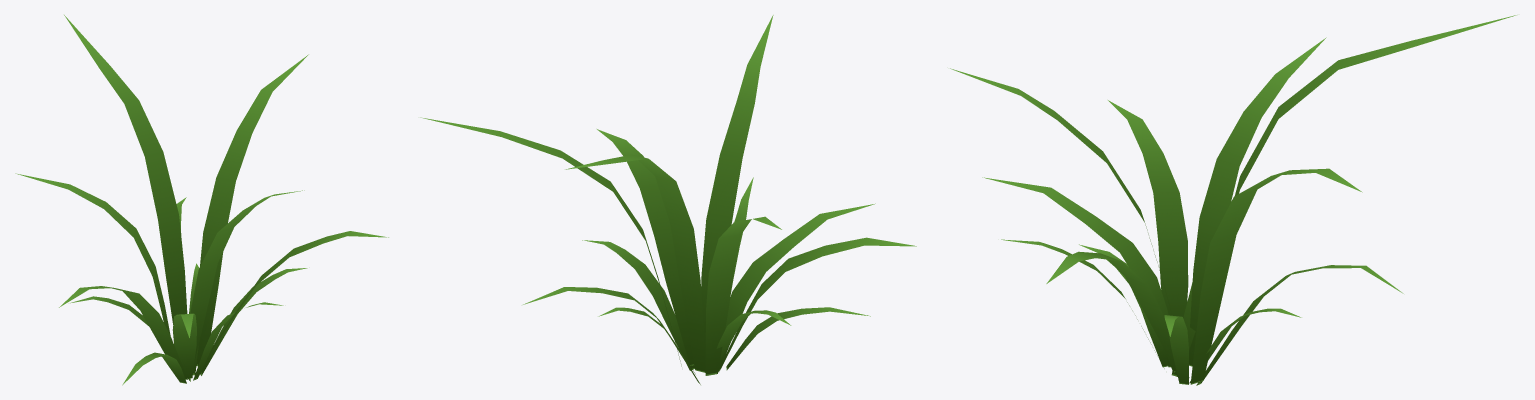
Rendered from grassclump_1.fbx.
3 views of the same model, side by side, from view 1: azimuth 30°, elevation 25°; view 2: azimuth 150°, elevation 25°; view 3: azimuth 270°, elevation 25° (orthographic). The views are drawn at different scales.
Visible parts, largest first — view 1: grass_clump; view 2: grass_clump; view 3: grass_clump.
Boxes of the visible parts, <box> form: grass_clump: <box>15,15,388,385</box>; grass_clump: <box>420,15,916,384</box>; grass_clump: <box>950,15,1516,385</box>.
Size of the model in its own units: 149 by 114 by 159.
1 material, 1 textured.
